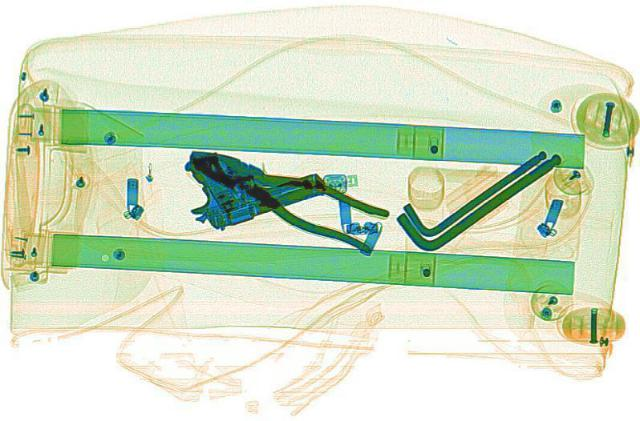Gun: (148, 130, 334, 233)
Pliers: (165, 130, 409, 257)
